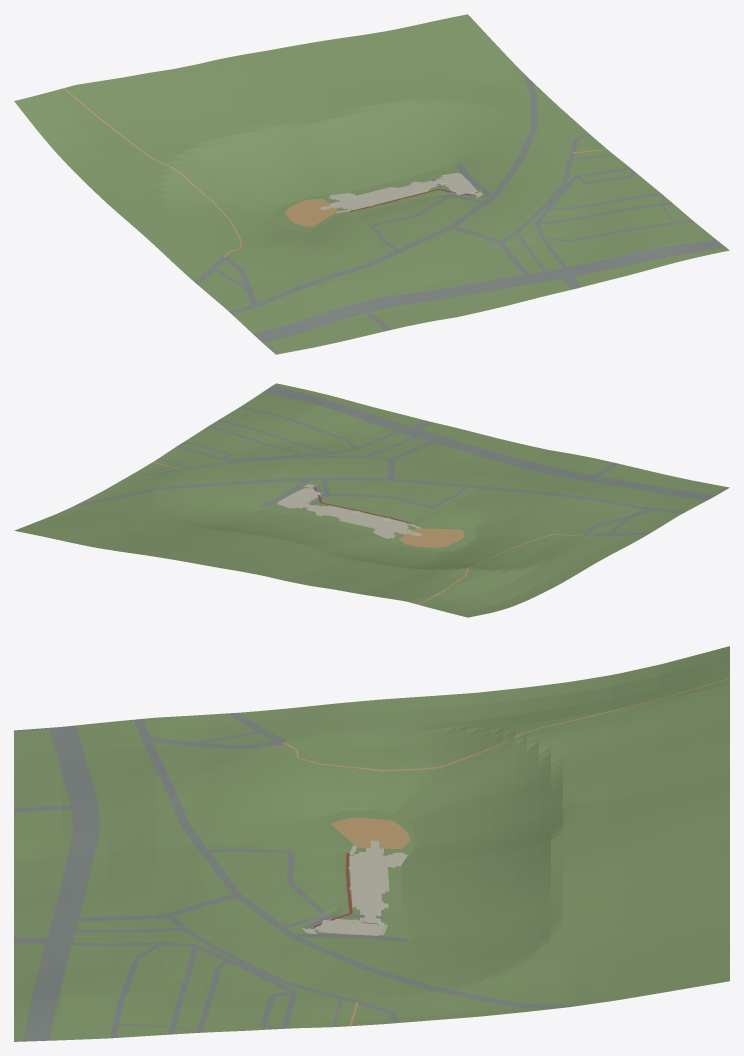
The picture shows the model from 3 angles, top to bottom: view 1: azimuth 30°, elevation 25°; view 2: azimuth 150°, elevation 25°; view 3: azimuth 270°, elevation 25°; orthographic projection. The views are drawn at different scales.
Parts seen in each view (by area): view 1: surface_ground, surface_osm-road-203042531, surface_osm-road-468991417, surface_west-earth-field, surface_under-main, surface_osm-road-568509186, surface_osm-road-469394307, surface_osm-road-1171888032; view 2: surface_ground, surface_osm-road-203042531, surface_osm-road-468991417, surface_west-earth-field, surface_under-main, surface_osm-road-568509186, surface_osm-road-469394307, surface_osm-road-1171888032, surface_osm-road-1186242879, surface_apron-main; view 3: surface_ground, surface_osm-road-203042531, surface_osm-road-468991417, surface_west-earth-field, surface_under-main, surface_osm-road-469394307, surface_osm-road-1171888032, surface_osm-road-568509186, surface_osm-road-1186242879, surface_osm-road-1227967991, surface_osm-road-492074362, surface_under-hall (+2 smaller).
Boxes of the visible parts, x1,y1,x2,y2 form: surface_ground: (14,14,729,353); surface_osm-road-203042531: (253,240,726,343); surface_osm-road-468991417: (229,73,537,314); surface_west-earth-field: (285,199,337,226); surface_under-main: (341,182,428,209); surface_osm-road-568509186: (540,193,672,224); surface_osm-road-469394307: (535,167,631,268); surface_osm-road-1171888032: (501,134,588,242); surface_ground: (14,383,726,617); surface_osm-road-203042531: (263,385,716,500); surface_osm-road-468991417: (70,477,685,513); surface_west-earth-field: (398,528,463,547); surface_under-main: (317,506,406,531); surface_osm-road-568509186: (207,419,334,455); surface_osm-road-469394307: (176,431,399,460); surface_osm-road-1171888032: (139,456,390,474); surface_osm-road-1186242879: (322,480,467,508); surface_apron-main: (314,505,409,532); surface_ground: (14,646,729,1041); surface_osm-road-203042531: (23,725,99,1041); surface_osm-road-468991417: (134,719,578,1008); surface_west-earth-field: (331,818,409,849); surface_under-main: (353,854,384,909); surface_osm-road-469394307: (71,942,296,1028); surface_osm-road-1171888032: (168,916,398,1021); surface_osm-road-568509186: (168,947,228,1034); surface_osm-road-1186242879: (209,848,327,927); surface_osm-road-1227967991: (283,678,729,771); surface_osm-road-492074362: (72,894,236,920); surface_under-hall: (319,920,383,934).
Size of the model in its own units: 480 by 71.03 by 480.
5 materials, 5 textured.
